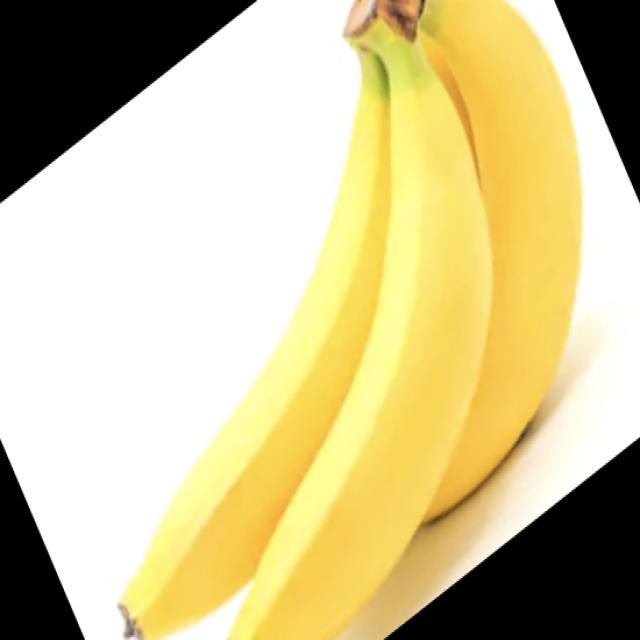god quality banana: (122, 0, 583, 638)
